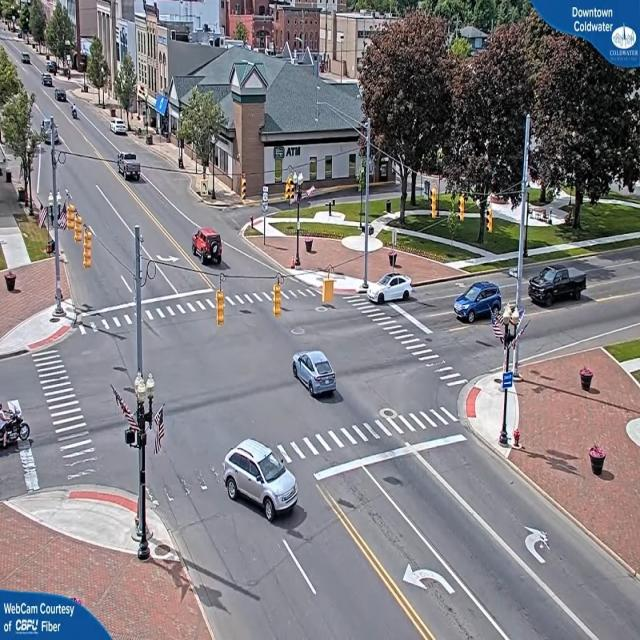car: (222, 439, 300, 522), (528, 266, 587, 307), (291, 350, 338, 401), (454, 283, 502, 324), (369, 273, 414, 305), (191, 232, 224, 264), (117, 153, 142, 181), (112, 120, 129, 136)
motorbike: (0, 404, 30, 451)
